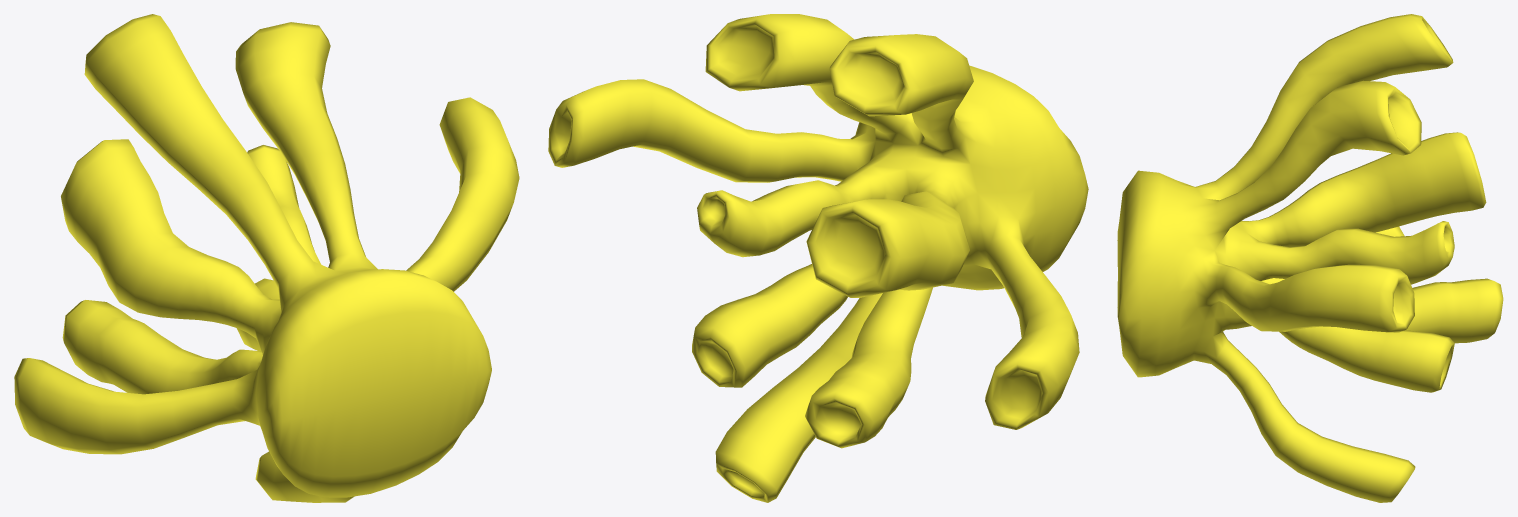
Rendered from Coral 22.fbx.
The picture shows the model from 3 angles, left to right: view 1: azimuth 30°, elevation 25°; view 2: azimuth 150°, elevation 25°; view 3: azimuth 270°, elevation 25°; orthographic projection. The views are drawn at different scales.
Parts seen in each view (by area): view 1: Coral 22; view 2: Coral 22; view 3: Coral 22.
Part boxes in pixels (left/top/right/bottom): Coral 22: left=14, top=14, right=519, bottom=502; Coral 22: left=548, top=14, right=1088, bottom=502; Coral 22: left=1117, top=14, right=1503, bottom=502.
Bounding box in the file's own units: 5.01 × 4.88 × 4.01.
